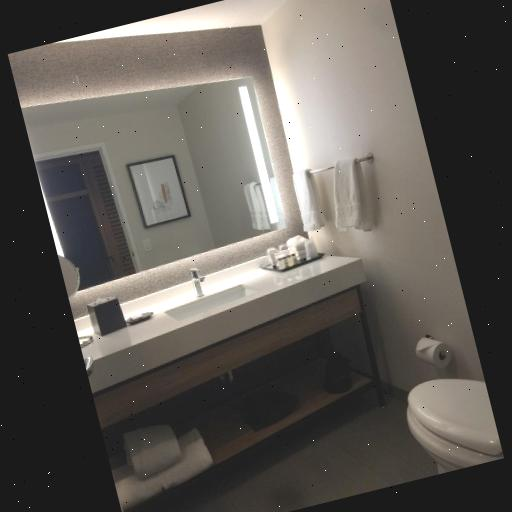clean mirror: (20, 54, 288, 297)
clean_sink: (69, 222, 370, 429)
clean_toilet: (394, 362, 506, 480)
folded_towel: (110, 416, 190, 480), (324, 155, 380, 240), (290, 168, 328, 238), (239, 181, 270, 233)
